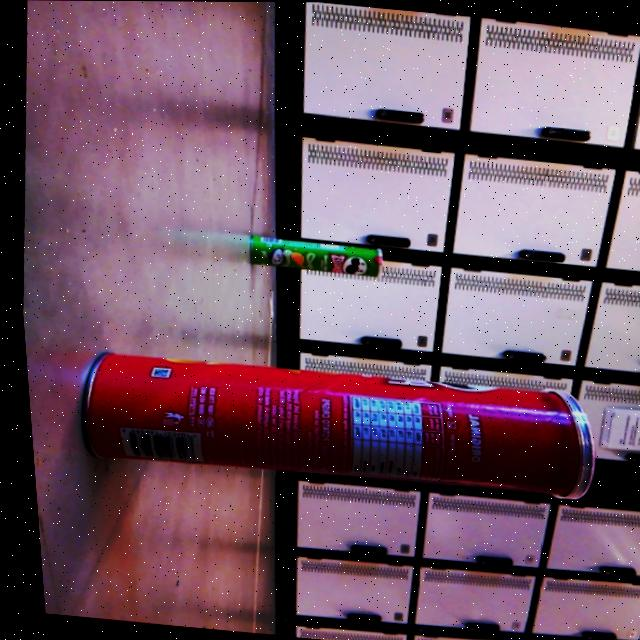greenpringles: (242, 222, 383, 296)
redpringles: (34, 315, 639, 533)
